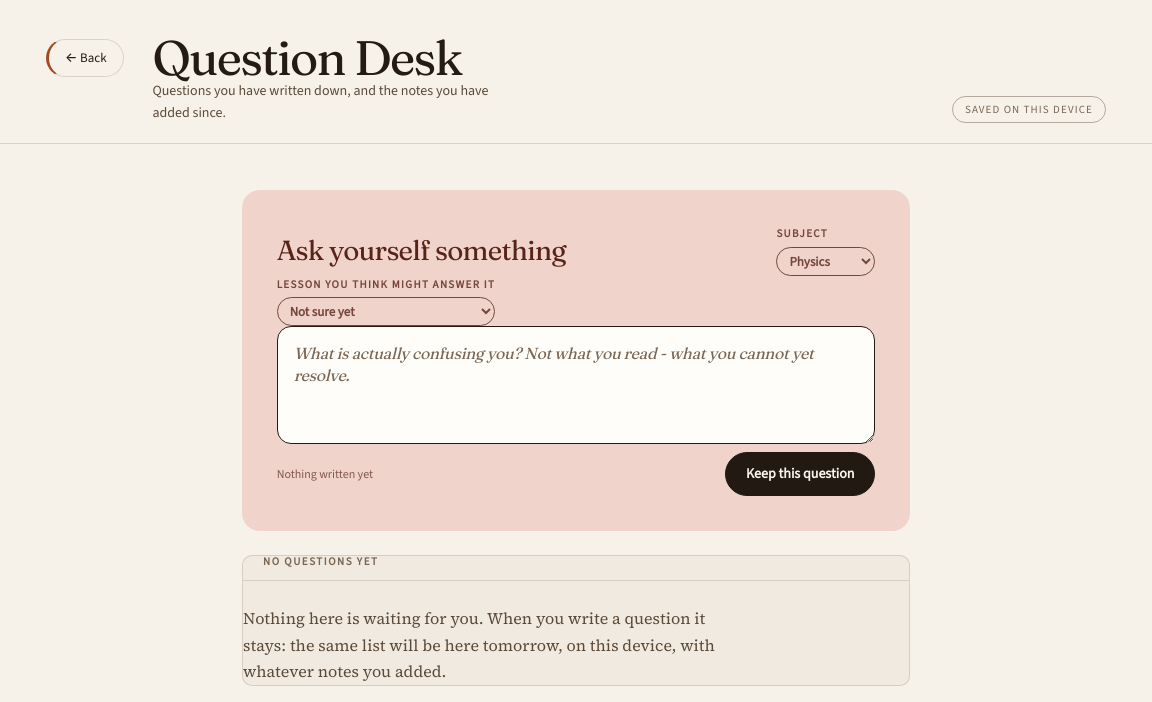
Scenario: an empty submission is refused with a reason rather than stored
Step 1. Click the button "Keep this question" → [800, 474], box [725,452,875,496]
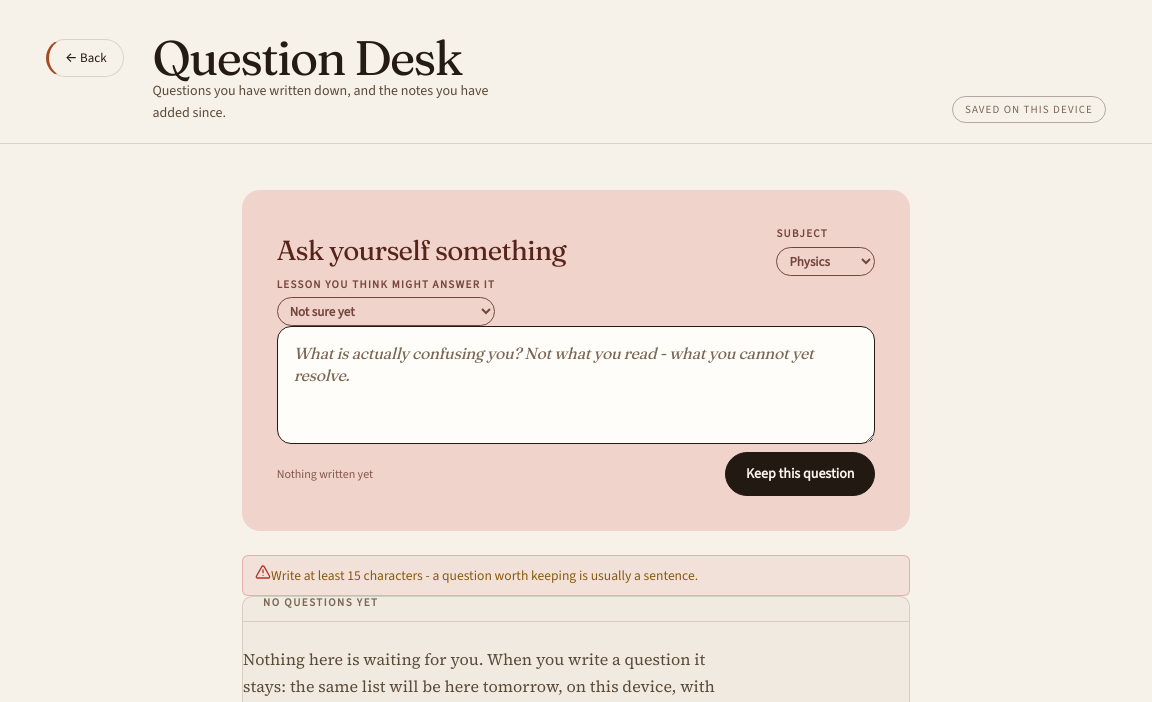
expect the heading "No questions yet" is shown: met, box [243,597,909,622]
expect the text "at least 15 characters" is shown: met, box [271,566,698,584]
